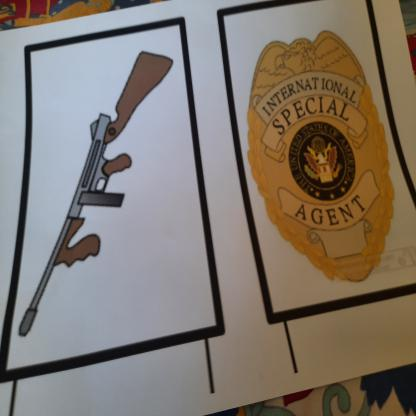Bootlegger: (17, 44, 182, 342)
G-man: (247, 26, 397, 302)
